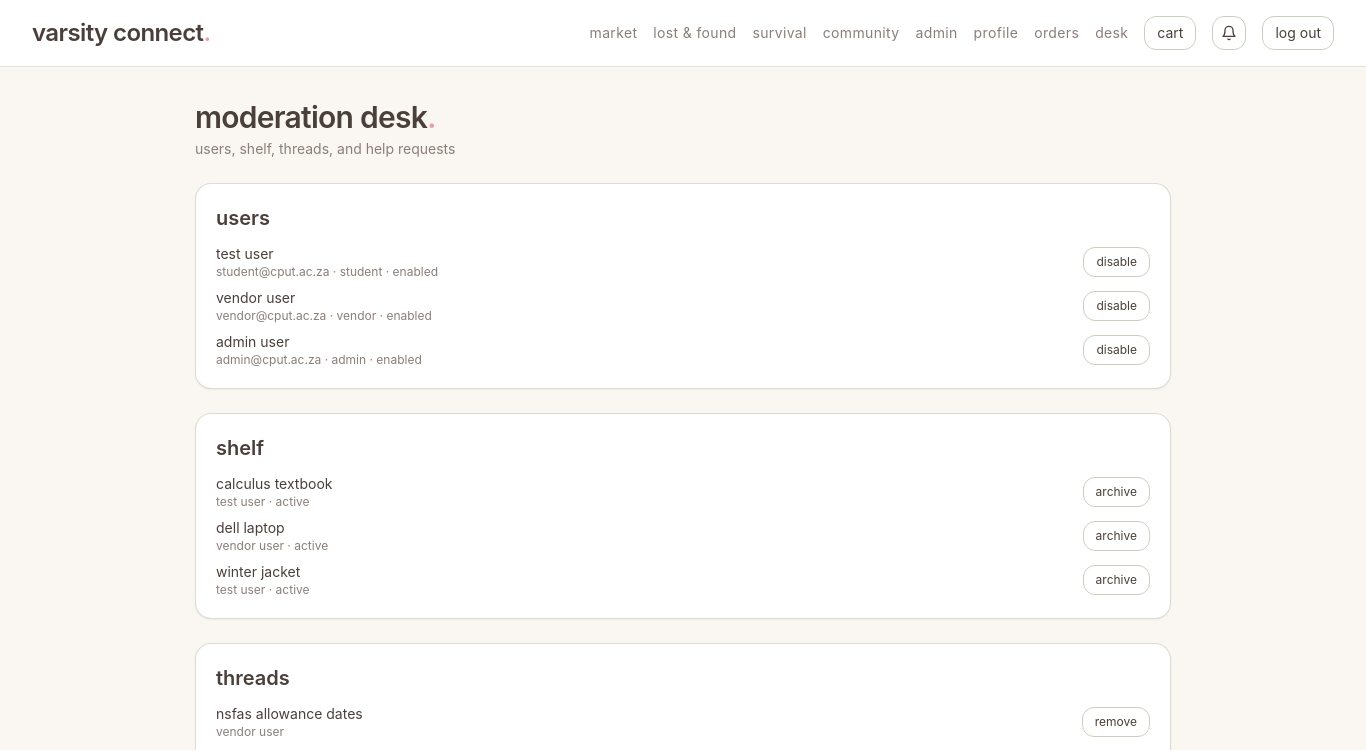
Test: admin desk › disables and re-enables an account
Expected: the heading "moderation desk." is shown, left=195, top=99, right=436, bottom=135
Click the button with aria-label "disable test user".
click(1117, 262)  # box left=1083, top=247, right=1150, bottom=277
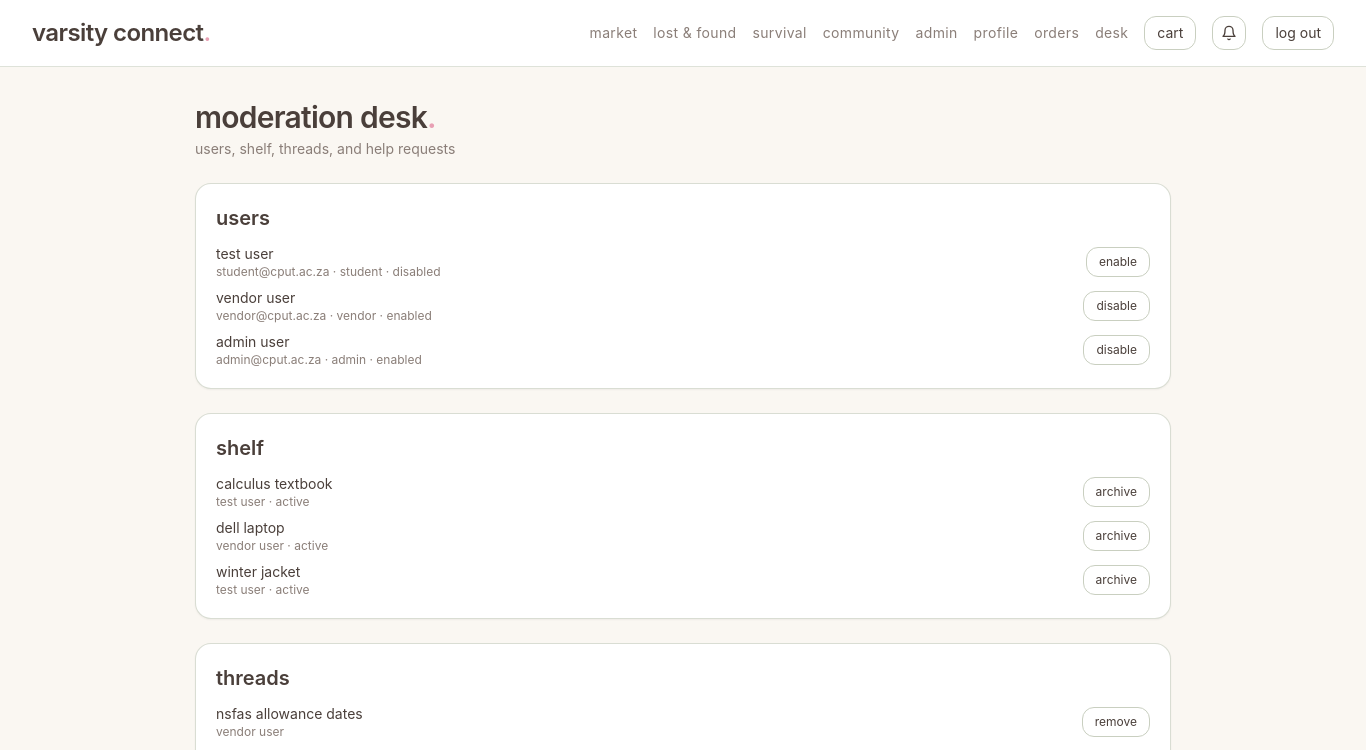
Now the button with aria-label "enable test user" is shown
Click the button with aria-label "enable test user".
click(1118, 262)  # box left=1086, top=247, right=1150, bottom=277
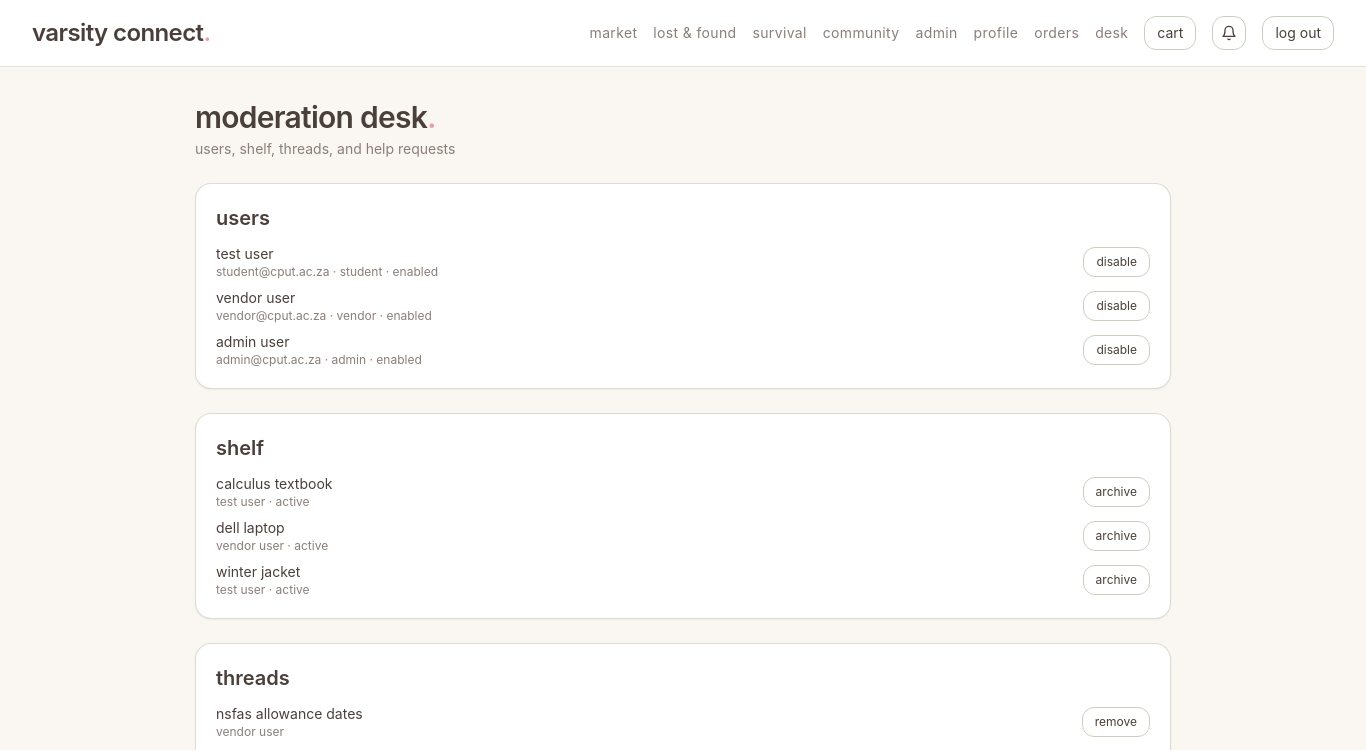
Now the button with aria-label "disable test user" is shown, box left=1083, top=247, right=1150, bottom=277
